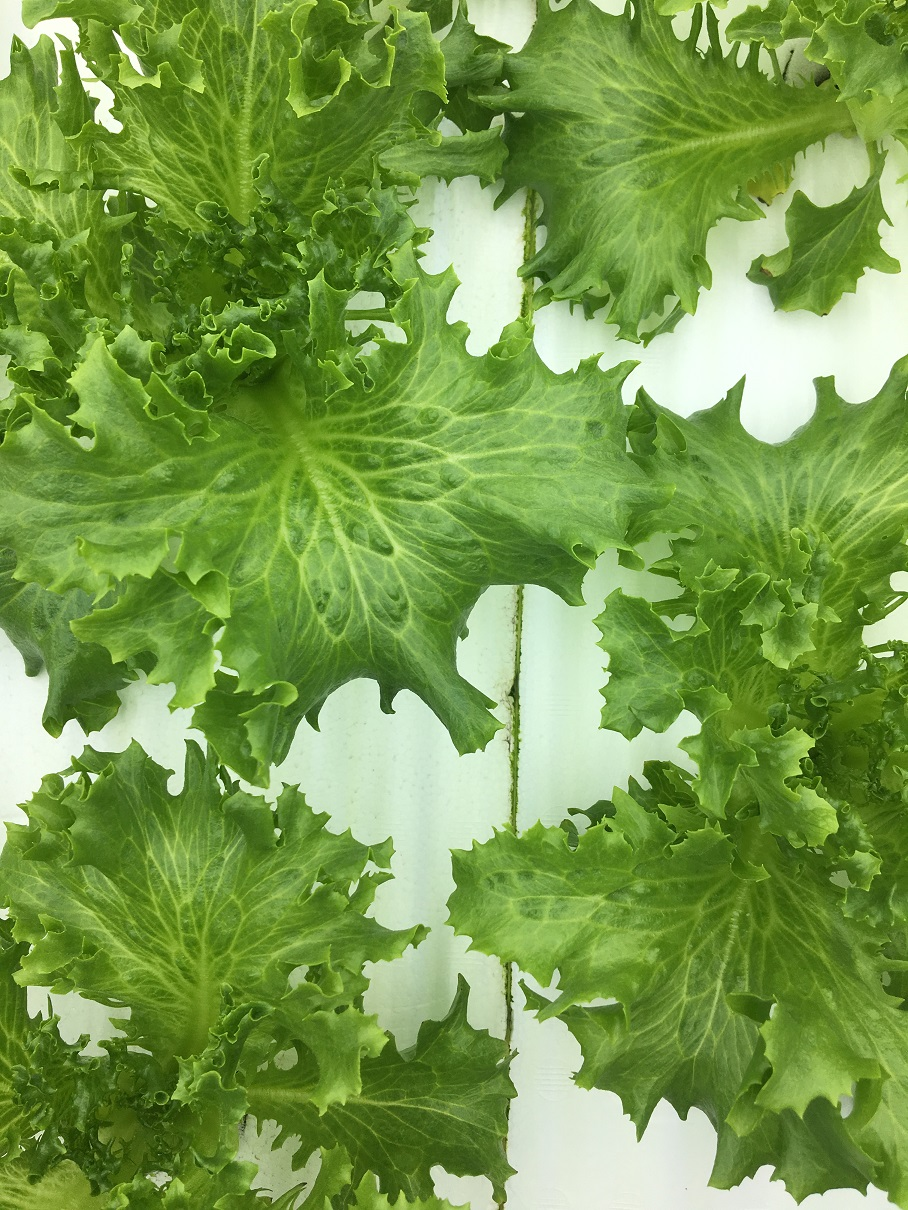tipburn: (814, 305, 843, 332), (756, 259, 778, 284), (755, 188, 774, 215)
